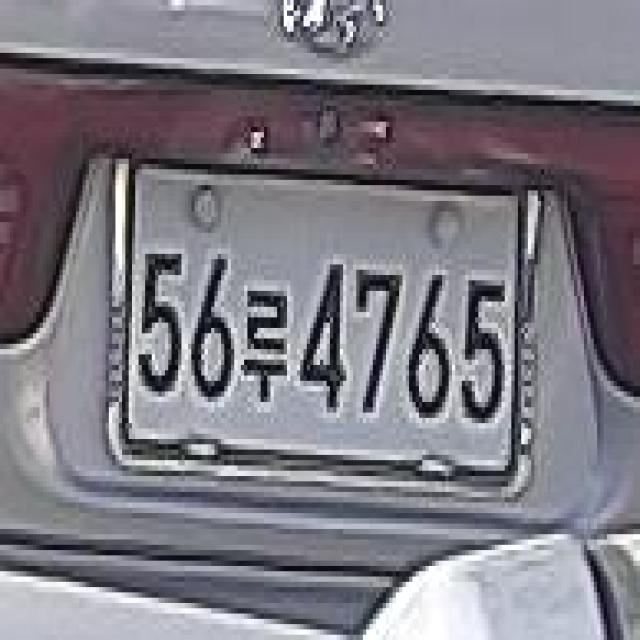illegal_plate: (110, 150, 530, 498)
